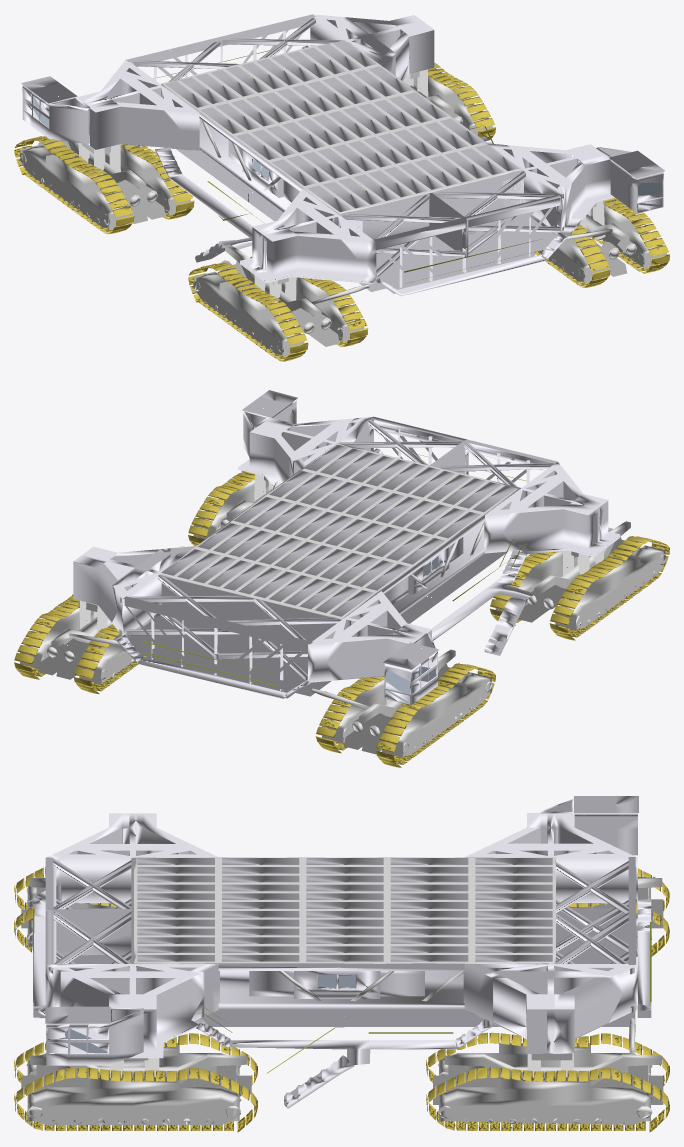
The model's file is crawler-craft.glb.
3 views of the same model, one above another, from view 1: azimuth 30°, elevation 25°; view 2: azimuth 150°, elevation 25°; view 3: azimuth 270°, elevation 25° (orthographic). The views are drawn at different scales.
Parts seen in each view (by area): view 1: craft; view 2: craft; view 3: craft.
Boxes of the visible parts, <box> form: craft: <box>14,14,669,361</box>; craft: <box>14,390,669,767</box>; craft: <box>14,796,669,1132</box>.
Size of the model in its own units: 32.75 by 7.71 by 39.93.
Materials: 1 (1 with a texture image).
